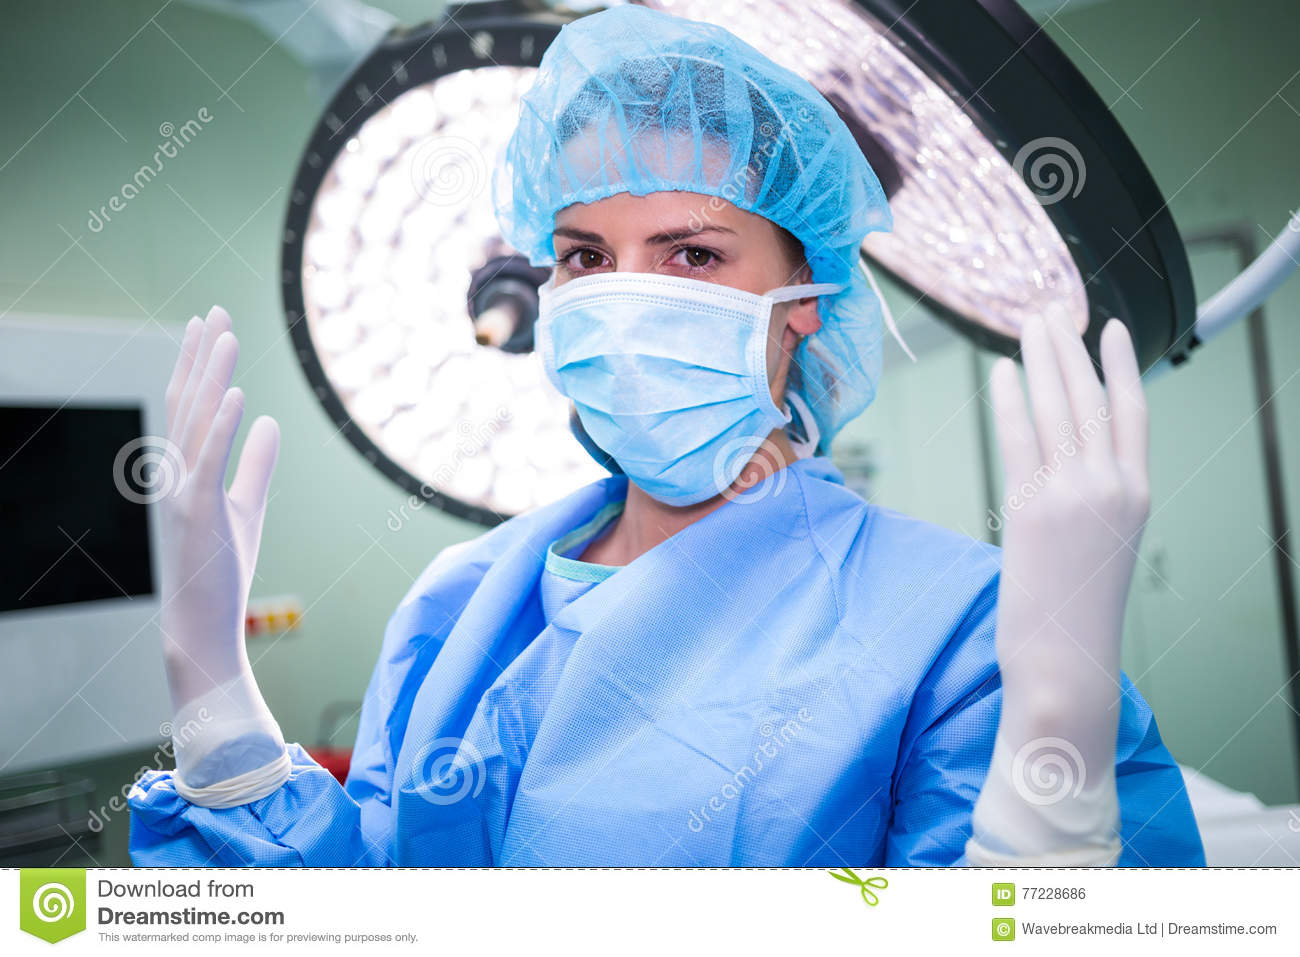mask: (528, 276, 798, 496)
